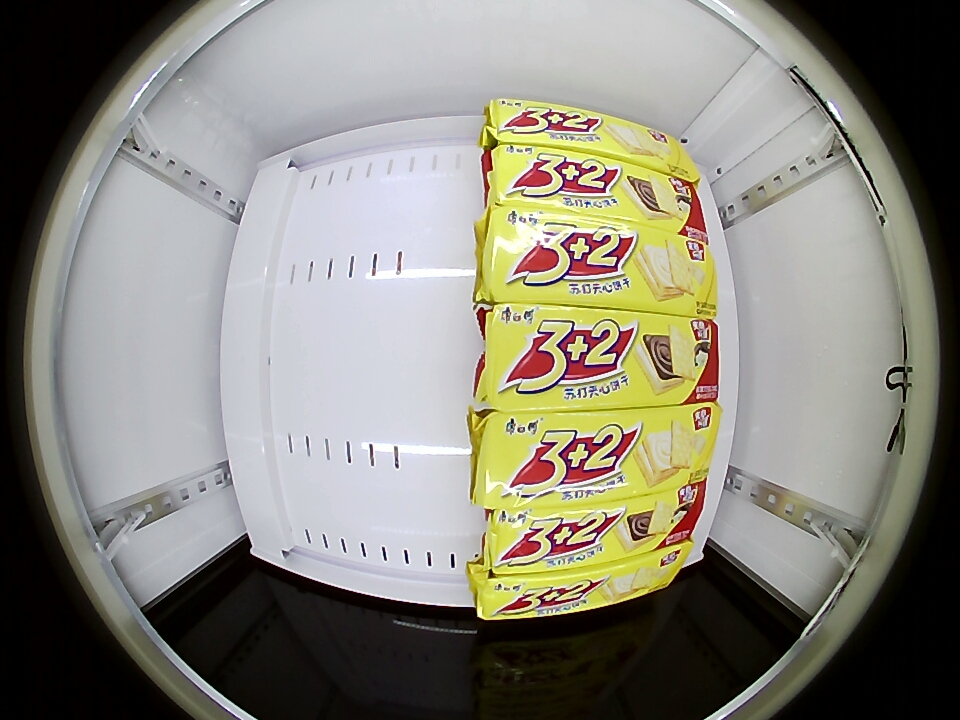3+2-2: (482, 208, 715, 311), (475, 407, 718, 504), (475, 546, 687, 620), (486, 99, 689, 172)
3jia2: (479, 308, 718, 408), (488, 484, 703, 571), (489, 145, 704, 225)
